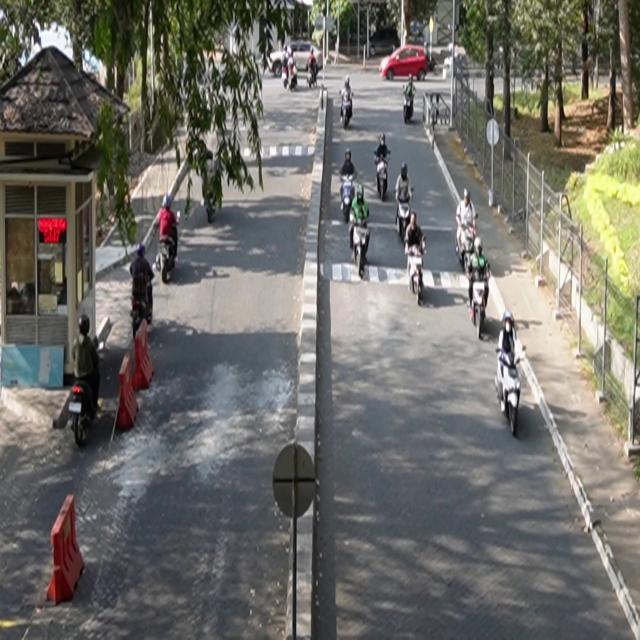car: (380, 46, 430, 82)
